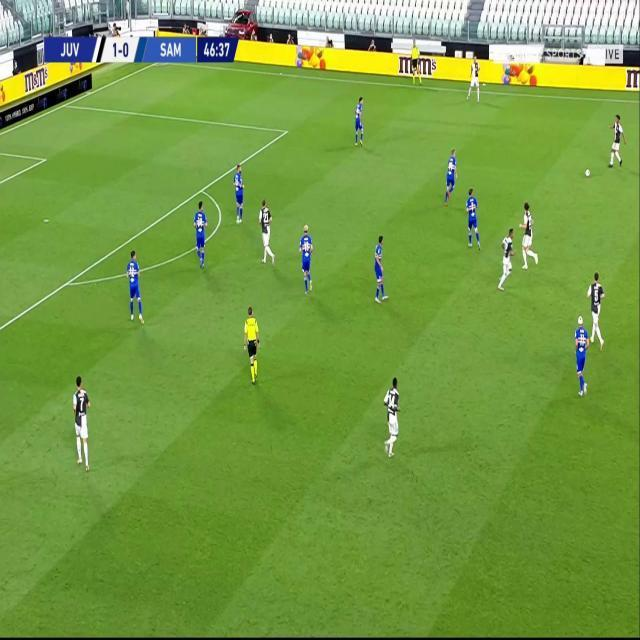ball: (584, 165, 591, 178)
player: (70, 373, 93, 470), (381, 373, 402, 458), (586, 268, 606, 349), (125, 247, 146, 324), (517, 201, 539, 271), (573, 312, 590, 398), (497, 226, 516, 292), (372, 231, 389, 304), (298, 222, 315, 295), (257, 199, 275, 267), (192, 199, 209, 270), (464, 186, 481, 249), (608, 113, 627, 169), (443, 147, 458, 207), (232, 163, 245, 223), (467, 52, 482, 102), (352, 94, 364, 148)
referee: (243, 304, 262, 384), (410, 39, 422, 86)
